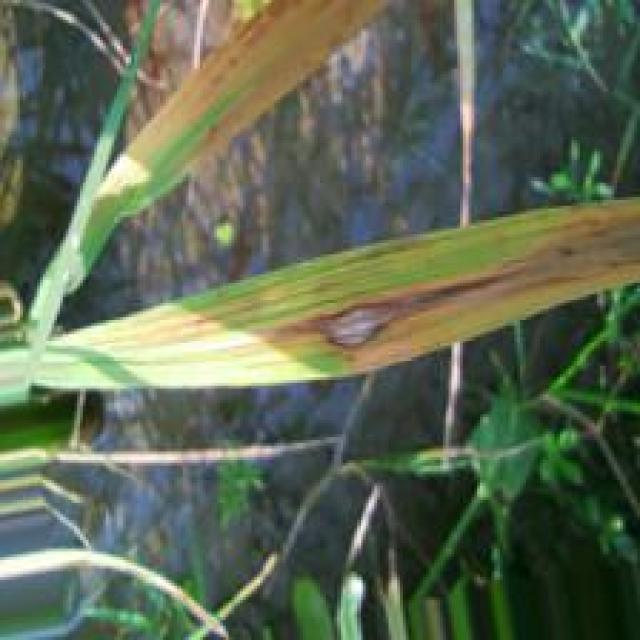Leaf_Blast: (273, 193, 640, 377)
